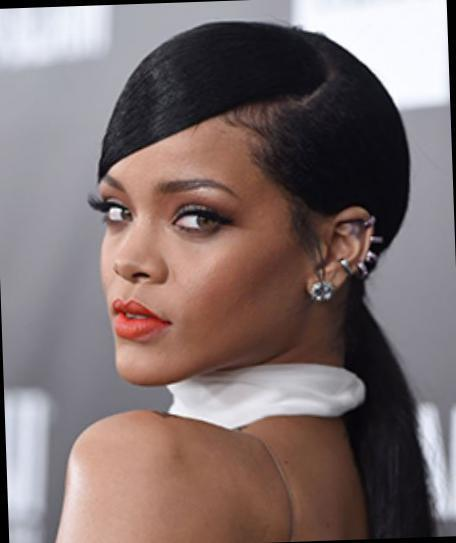Sober: (106, 132, 294, 370)
